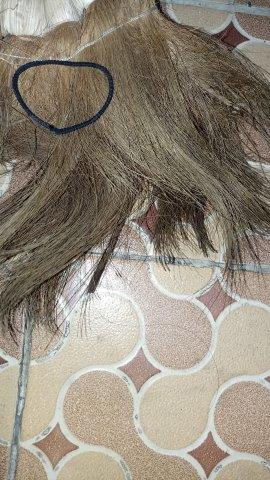karet: (12, 60, 114, 134)
